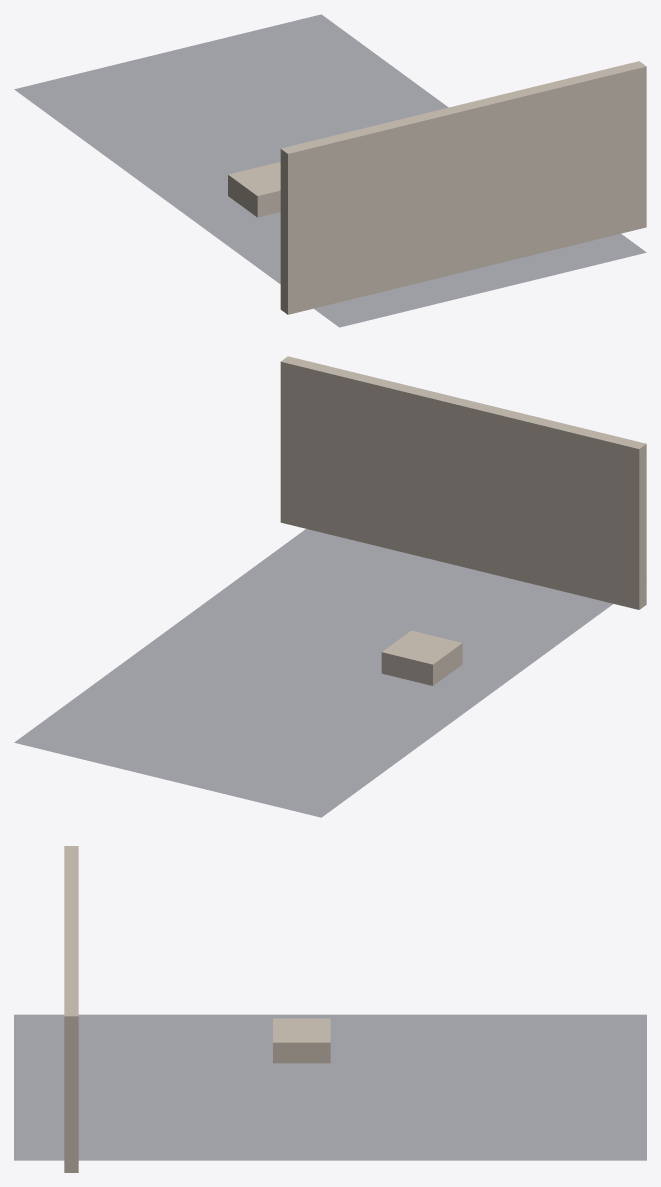
File: particles.gltf
3 views of the same model, one above another, from view 1: azimuth 30°, elevation 25°; view 2: azimuth 150°, elevation 25°; view 3: azimuth 270°, elevation 25° (orthographic). The views are drawn at different scales.
Parts seen in each view (by area): view 1: wall, ground, plinth; view 2: ground, wall, plinth; view 3: ground, wall, plinth.
Part boxes in pixels (x1=…): wall: x1=280, y1=61, x2=646, y2=314; ground: x1=14, y1=14, x2=646, y2=327; plinth: x1=228, y1=162, x2=280, y2=217; ground: x1=14, y1=529, x2=613, y2=817; wall: x1=280, y1=356, x2=646, y2=609; plinth: x1=381, y1=630, x2=462, y2=685; ground: x1=14, y1=1014, x2=646, y2=1160; wall: x1=64, y1=846, x2=78, y2=1172; plinth: x1=273, y1=1018, x2=330, y2=1063.
Size of the model in its own units: 14 by 6 by 22.
